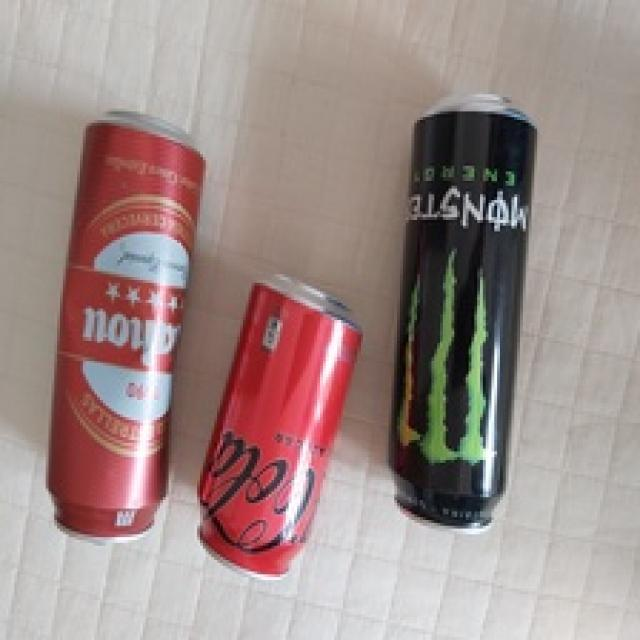recyclable: (42, 108, 206, 543), (388, 91, 540, 528), (197, 275, 364, 582)
